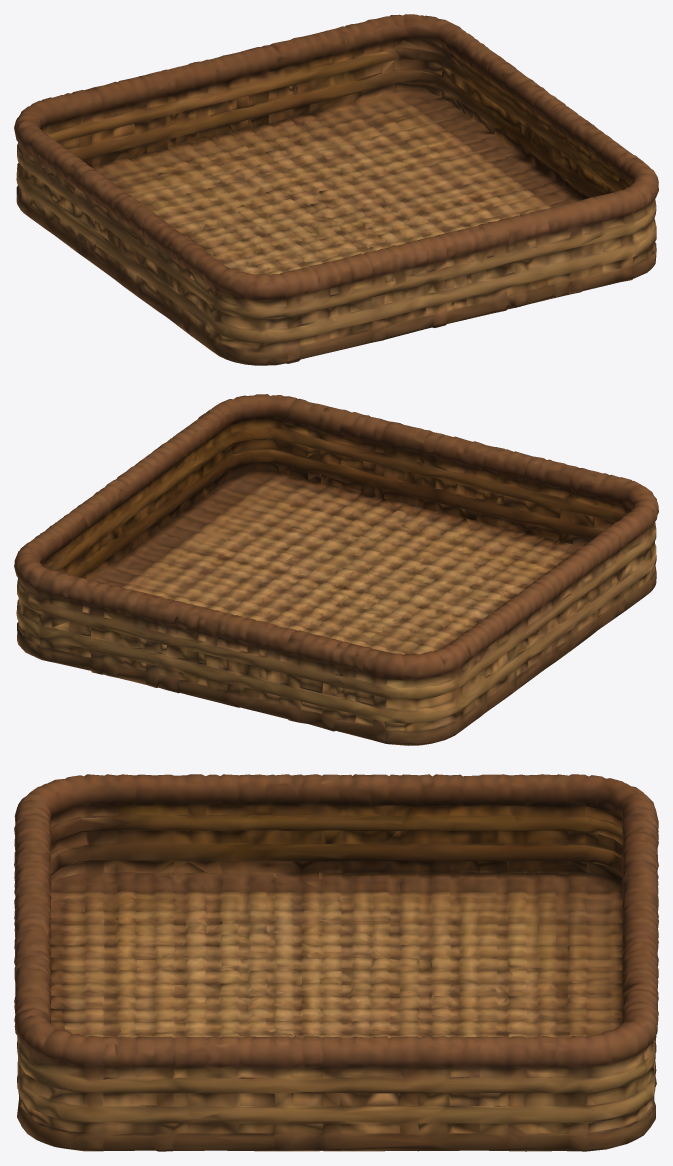
Rendered from basket_farm.fbx.
3 views of the same model, one above another, from view 1: azimuth 30°, elevation 25°; view 2: azimuth 150°, elevation 25°; view 3: azimuth 270°, elevation 25° (orthographic). The views are drawn at different scales.
Visible parts, largest first — view 1: basket_farm; view 2: basket_farm; view 3: basket_farm.
Part boxes in pixels (<box>): basket_farm: <box>14,14,658,365</box>; basket_farm: <box>14,394,658,745</box>; basket_farm: <box>14,774,658,1151</box>.
Bounding box in the file's own units: 100 × 18.83 × 98.88.
Materials: 1 (1 with a texture image).
